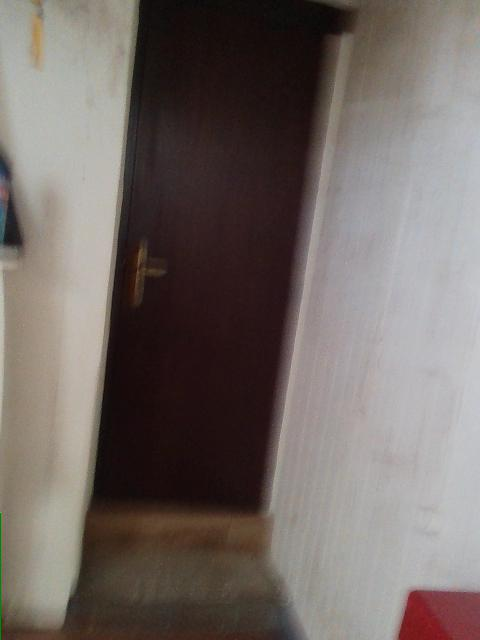door: (92, 0, 356, 512)
